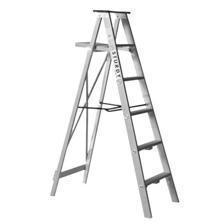Ladder: (26, 11, 214, 205)
